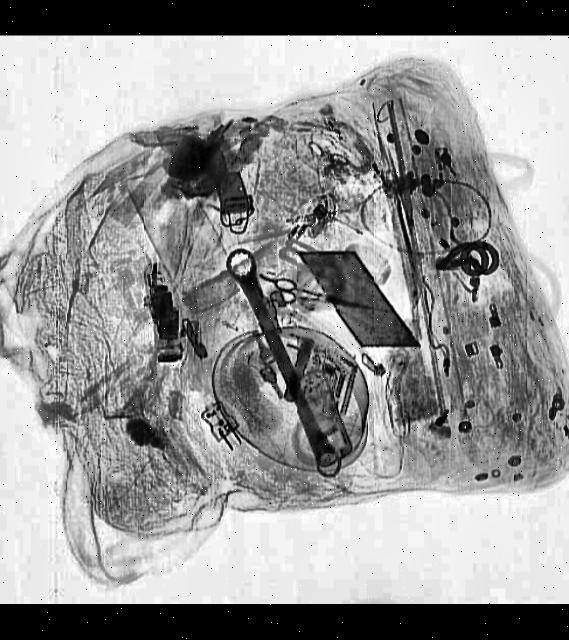Wrench: (218, 245, 345, 482)
